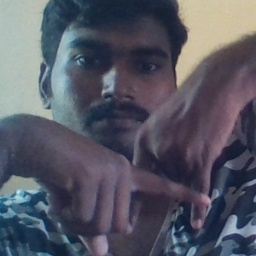H: (96, 121, 217, 243)
